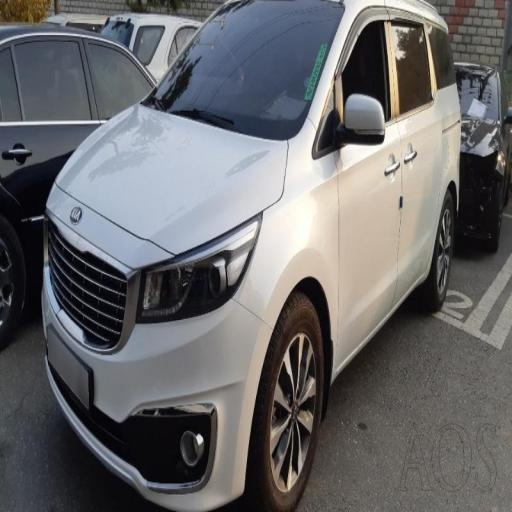dent: (79, 109, 290, 398)
